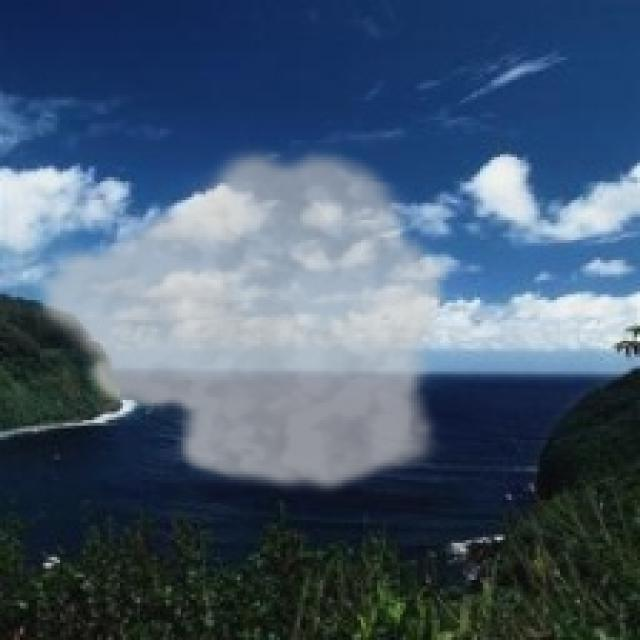smoke: (29, 140, 452, 497)
